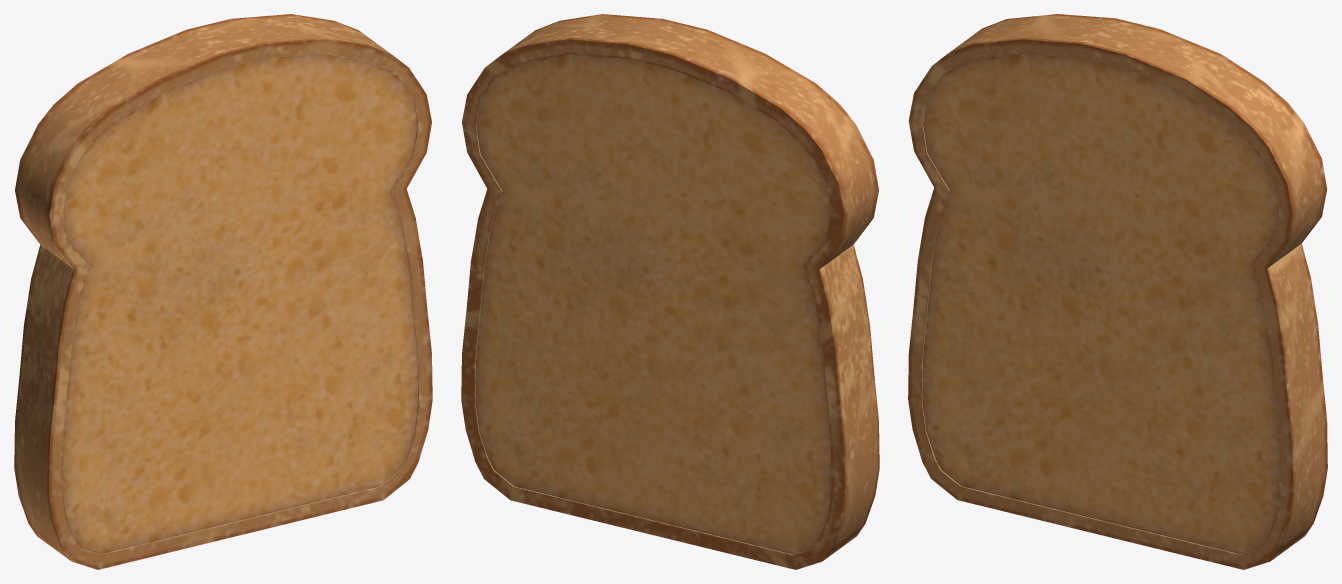
Rendered from Toast_Original.fbx.
3 views of the same model, side by side, from view 1: azimuth 30°, elevation 25°; view 2: azimuth 150°, elevation 25°; view 3: azimuth 330°, elevation 25° (orthographic).
Visible parts, largest first — view 1: Toast_Original; view 2: Toast_Original; view 3: Toast_Original.
Boxes of the visible parts, x1,y1,x2,y2 form: Toast_Original: (14,14,432,569); Toast_Original: (461,14,879,569); Toast_Original: (908,14,1327,569).
Bounding box in the file's own units: 1.35 × 1.64 × 0.2114.
